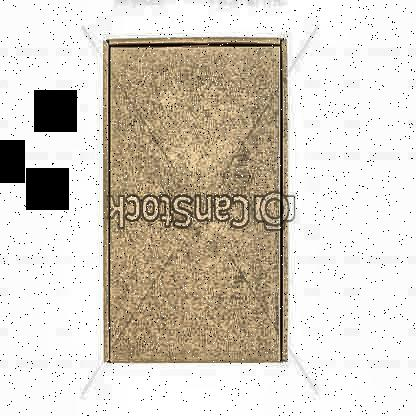no defect parcel: (94, 24, 301, 381)
